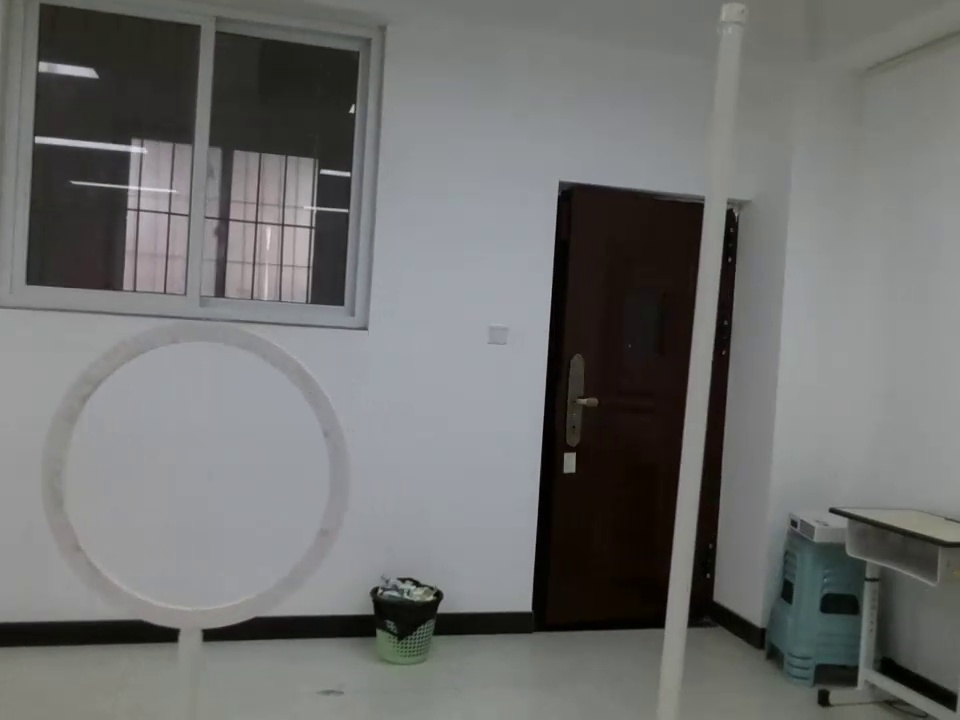quan: (25, 317, 358, 642)
